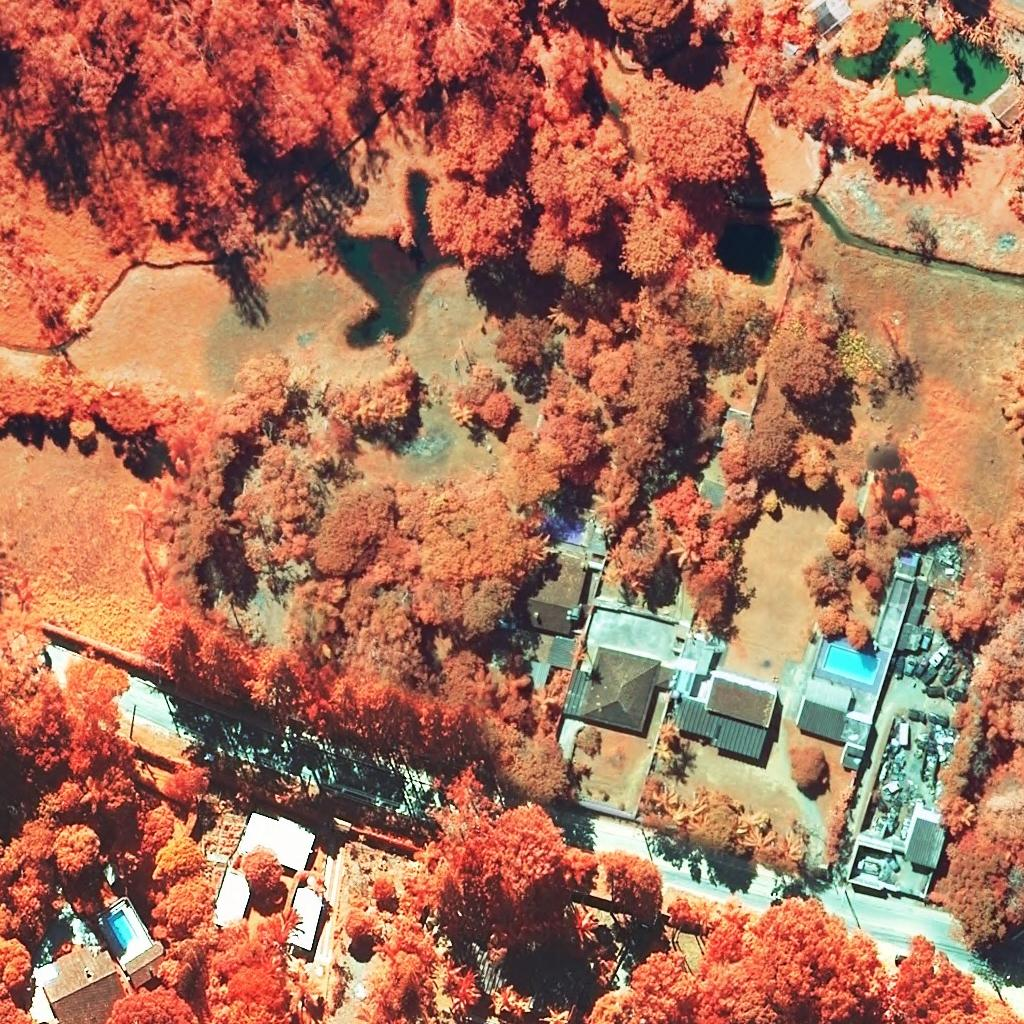pool: (823, 645, 879, 683), (107, 909, 137, 950)
